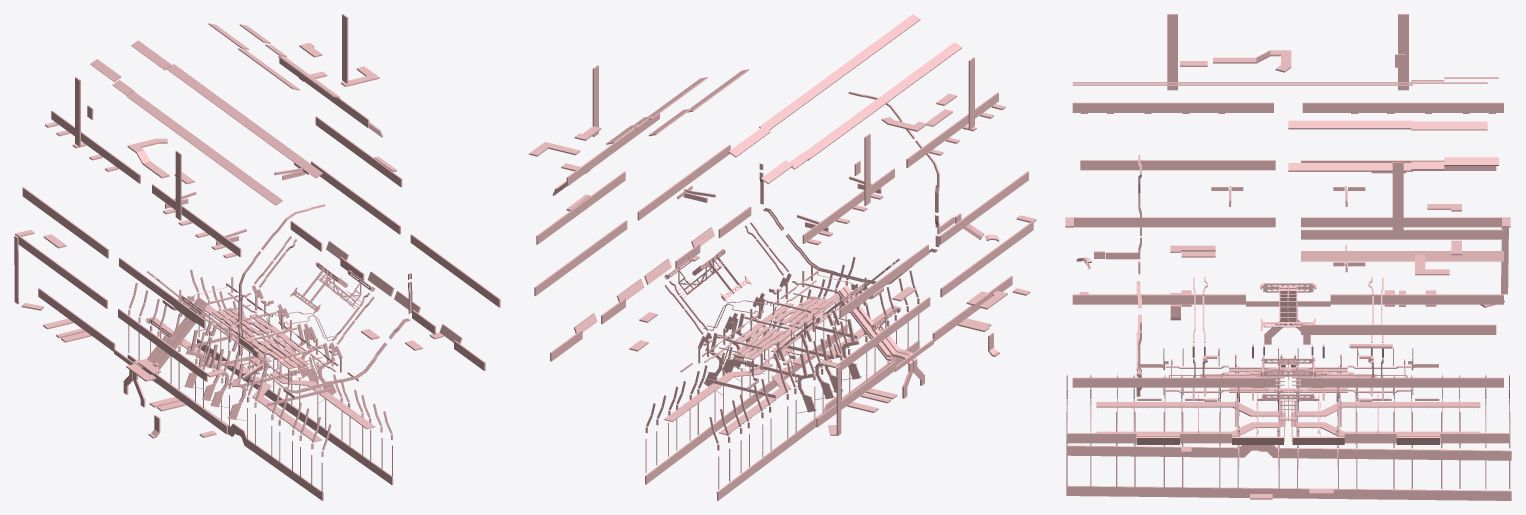
The model's file is Serv-Muon-Cable Trays-cut4.glb.
3 renders of one model, left to right at view 1: azimuth 30°, elevation 25°; view 2: azimuth 150°, elevation 25°; view 3: azimuth 270°, elevation 25°, orthographic. The views are drawn at different scales.
Visible parts, largest first — view 1: Cabble Trays-cut4; view 2: Cabble Trays-cut4; view 3: Cabble Trays-cut4.
Boxes of the visible parts, bbox=[...] form: Cabble Trays-cut4: bbox=[14, 14, 500, 500]; Cabble Trays-cut4: bbox=[529, 14, 1036, 500]; Cabble Trays-cut4: bbox=[1065, 14, 1511, 500].
Bounding box in the file's own units: 25.96 × 25.01 × 25.76.
